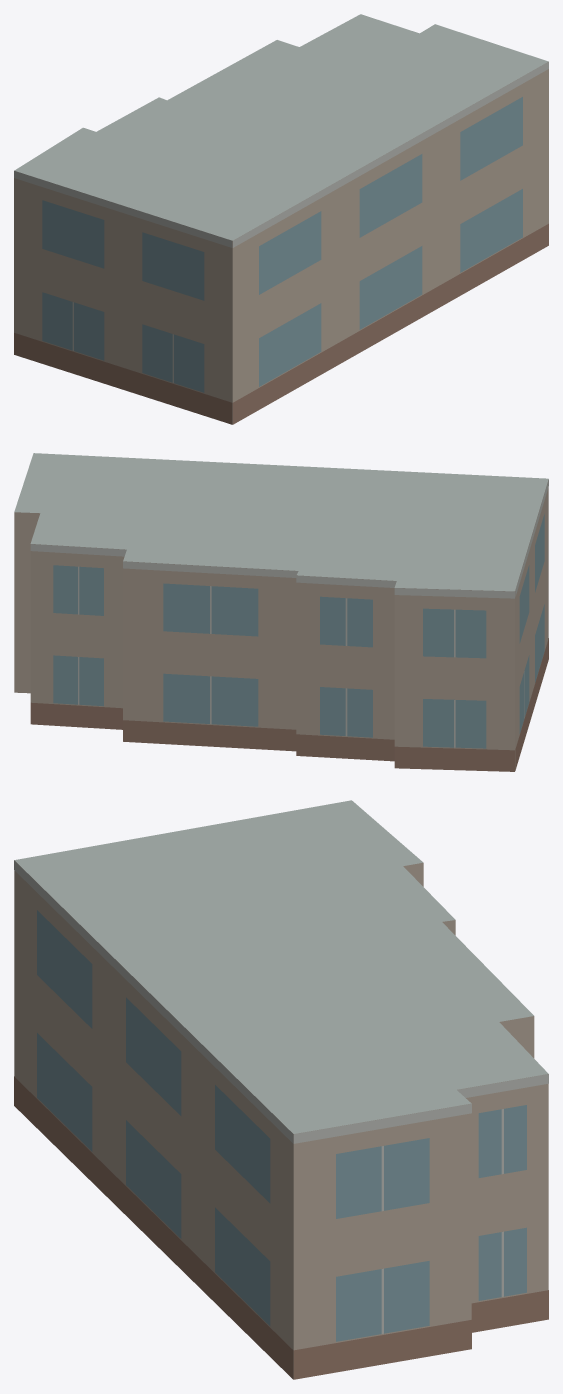
File: survey-upis-32964482.glb
The picture shows the model from 3 angles, top to bottom: view 1: azimuth 30°, elevation 25°; view 2: azimuth 150°, elevation 25°; view 3: azimuth 270°, elevation 25°; orthographic projection. The views are drawn at different scales.
Visible parts, largest first — view 1: survey-upis-32964482.tmp; view 2: survey-upis-32964482.tmp; view 3: survey-upis-32964482.tmp.
Part boxes in pixels (bbox=[...]): survey-upis-32964482.tmp: bbox=[14, 14, 548, 424]; survey-upis-32964482.tmp: bbox=[14, 453, 548, 771]; survey-upis-32964482.tmp: bbox=[14, 800, 548, 1379].
Size of the model in its own units: 17.8 by 6.1 by 12.04.
